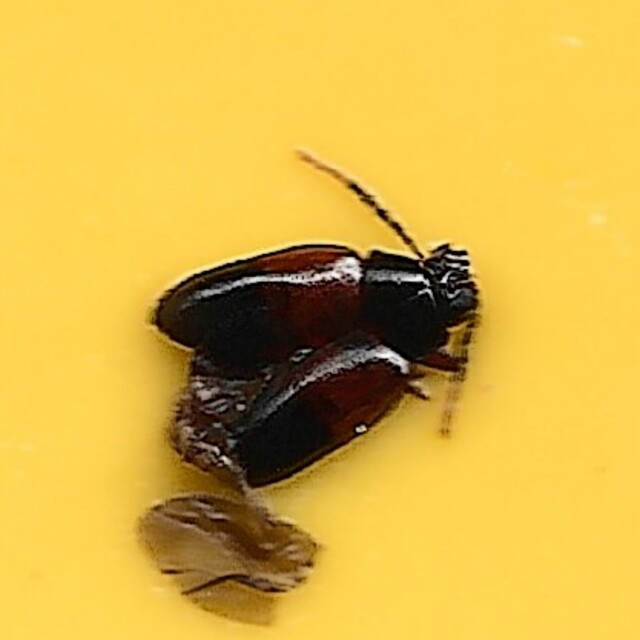Coleoptera: (153, 154, 487, 486)
